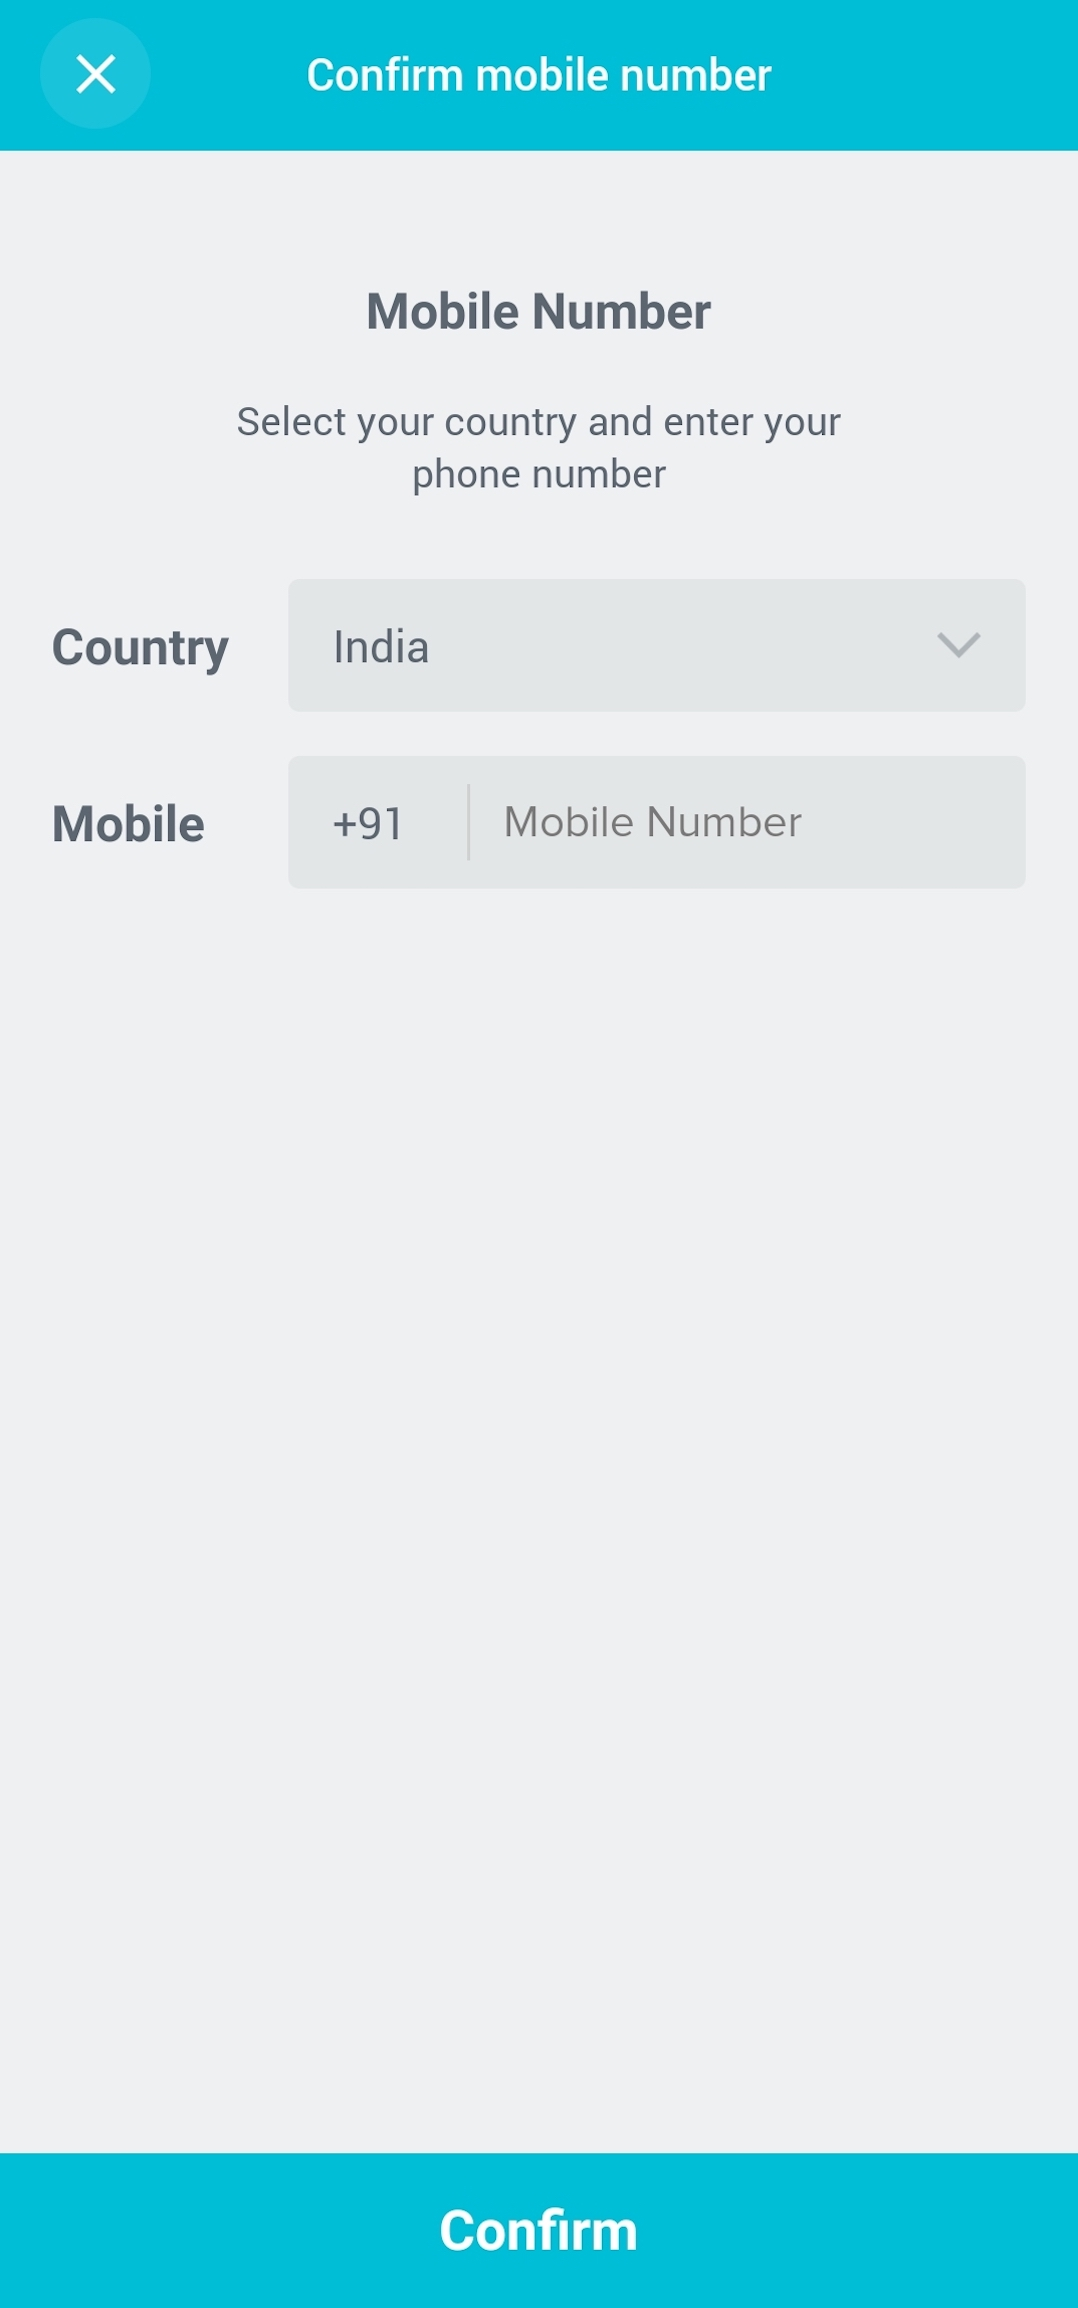Text: (436, 2206, 642, 2256), (349, 284, 532, 336), (527, 284, 726, 331), (32, 796, 219, 845), (38, 624, 230, 670), (641, 796, 807, 843), (300, 52, 473, 96), (465, 50, 616, 96), (608, 54, 779, 94), (496, 799, 642, 842), (406, 456, 532, 502), (440, 406, 580, 446), (325, 620, 434, 670), (532, 456, 672, 495), (233, 399, 350, 440), (760, 409, 848, 449), (660, 405, 757, 439), (328, 805, 409, 843), (353, 409, 437, 445), (585, 405, 655, 437)
